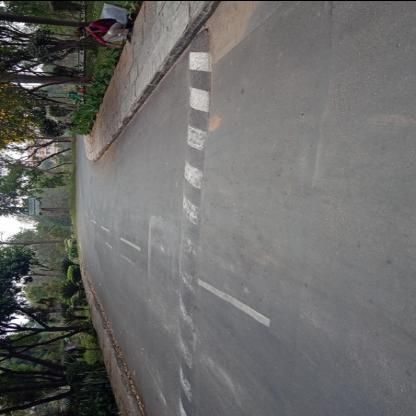speed-bumps: (168, 25, 214, 416)
